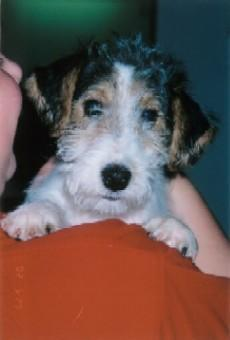wire-haired_fox_terrier: (1, 33, 217, 265)
